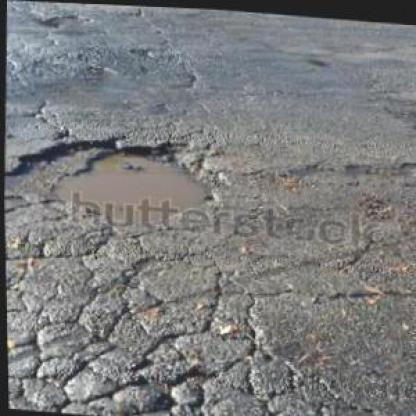pothole: (8, 122, 233, 232), (36, 11, 96, 29)
